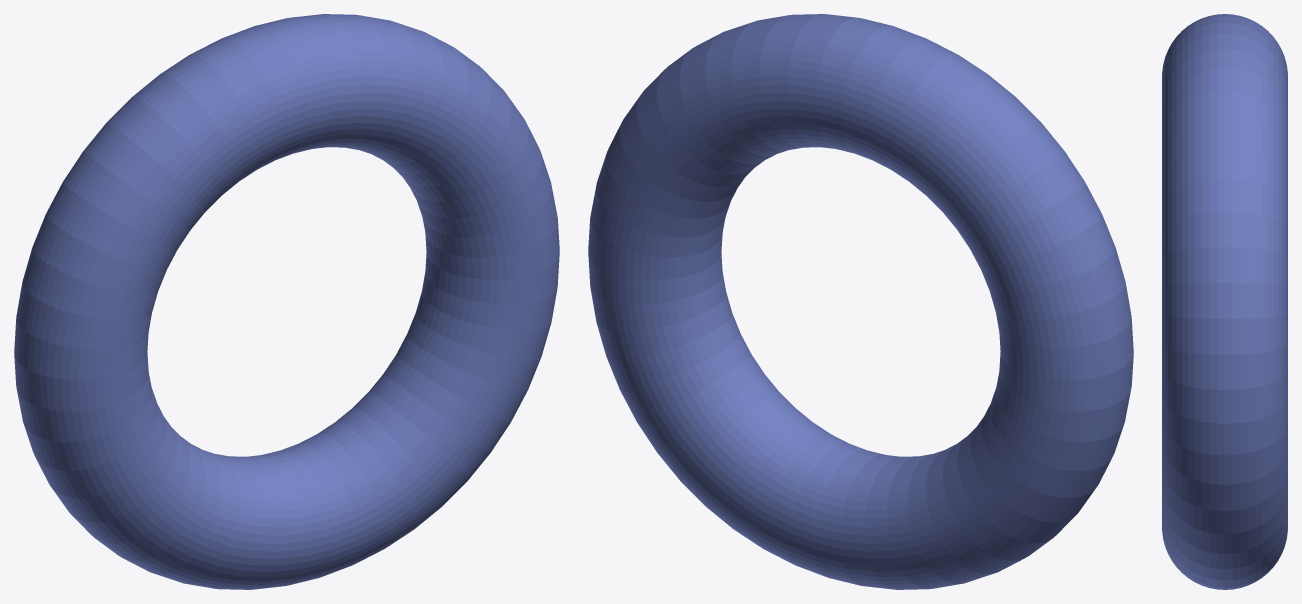
3 renders of one model, left to right at view 1: azimuth 30°, elevation 25°; view 2: azimuth 150°, elevation 25°; view 3: azimuth 270°, elevation 25°, orthographic. The views are drawn at different scales.
Visible parts, largest first — view 1: world; view 2: world; view 3: world.
Part boxes in pixels (<box>): world: <box>14,14,559,589</box>; world: <box>588,14,1133,589</box>; world: <box>1162,14,1287,589</box>.
Bounding box in the file's own units: 12.8 × 12.77 × 2.79.
